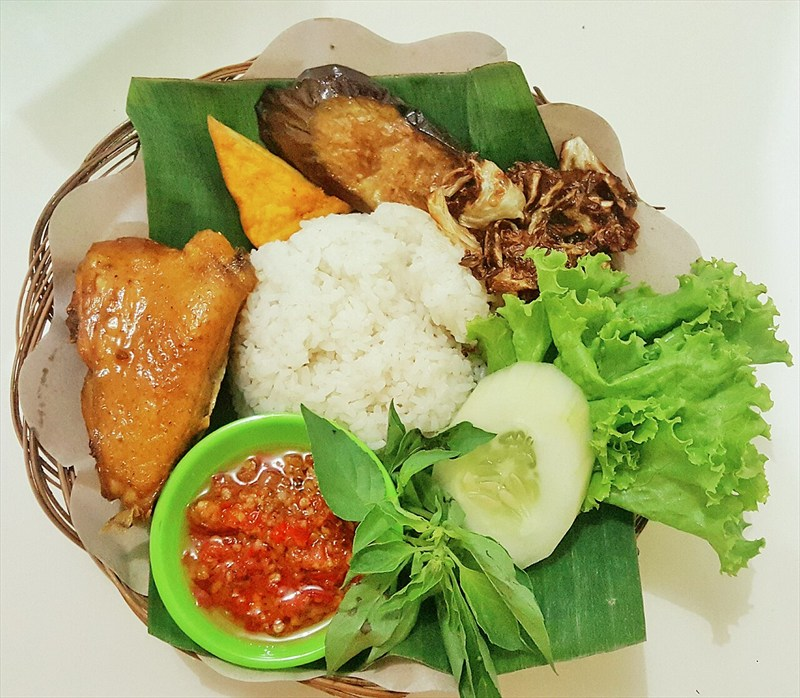Ayam Goreng: (92, 98, 683, 664)
